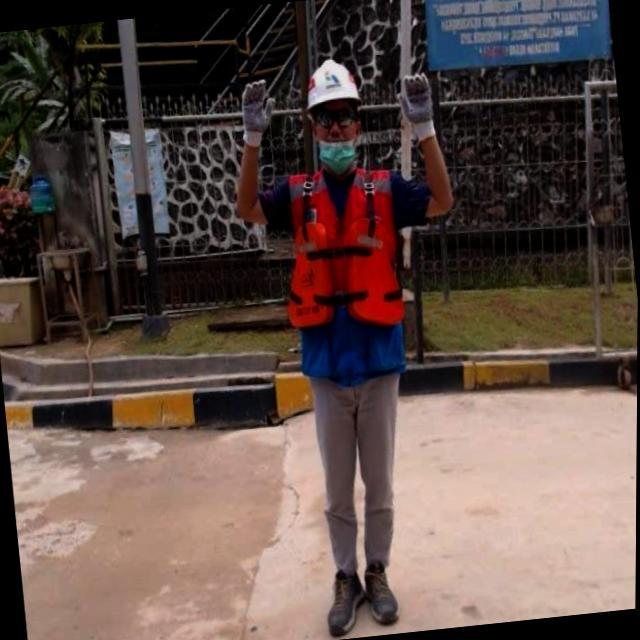goggles_on: (302, 100, 369, 131)
